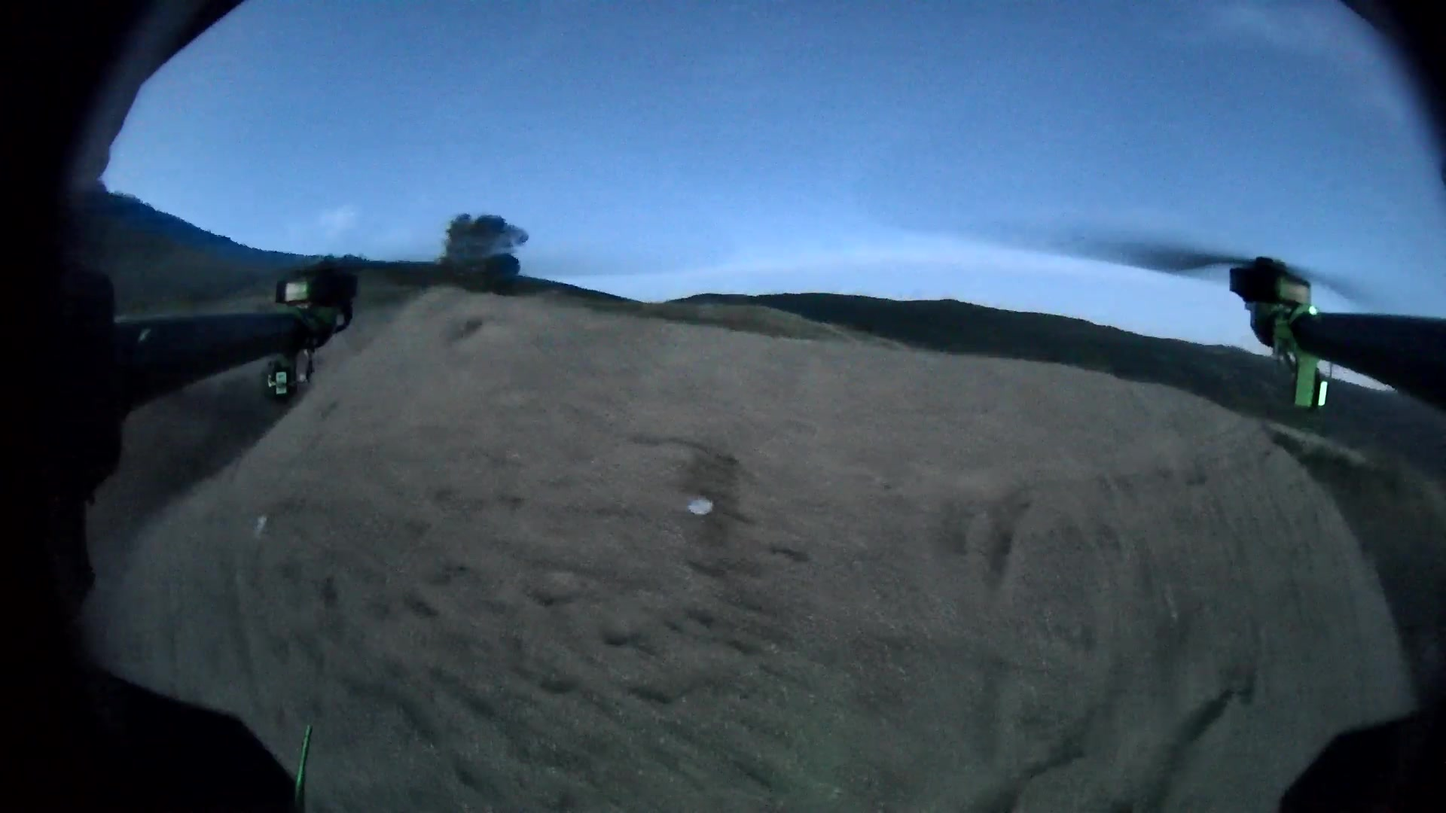Target: (687, 496, 714, 516)
